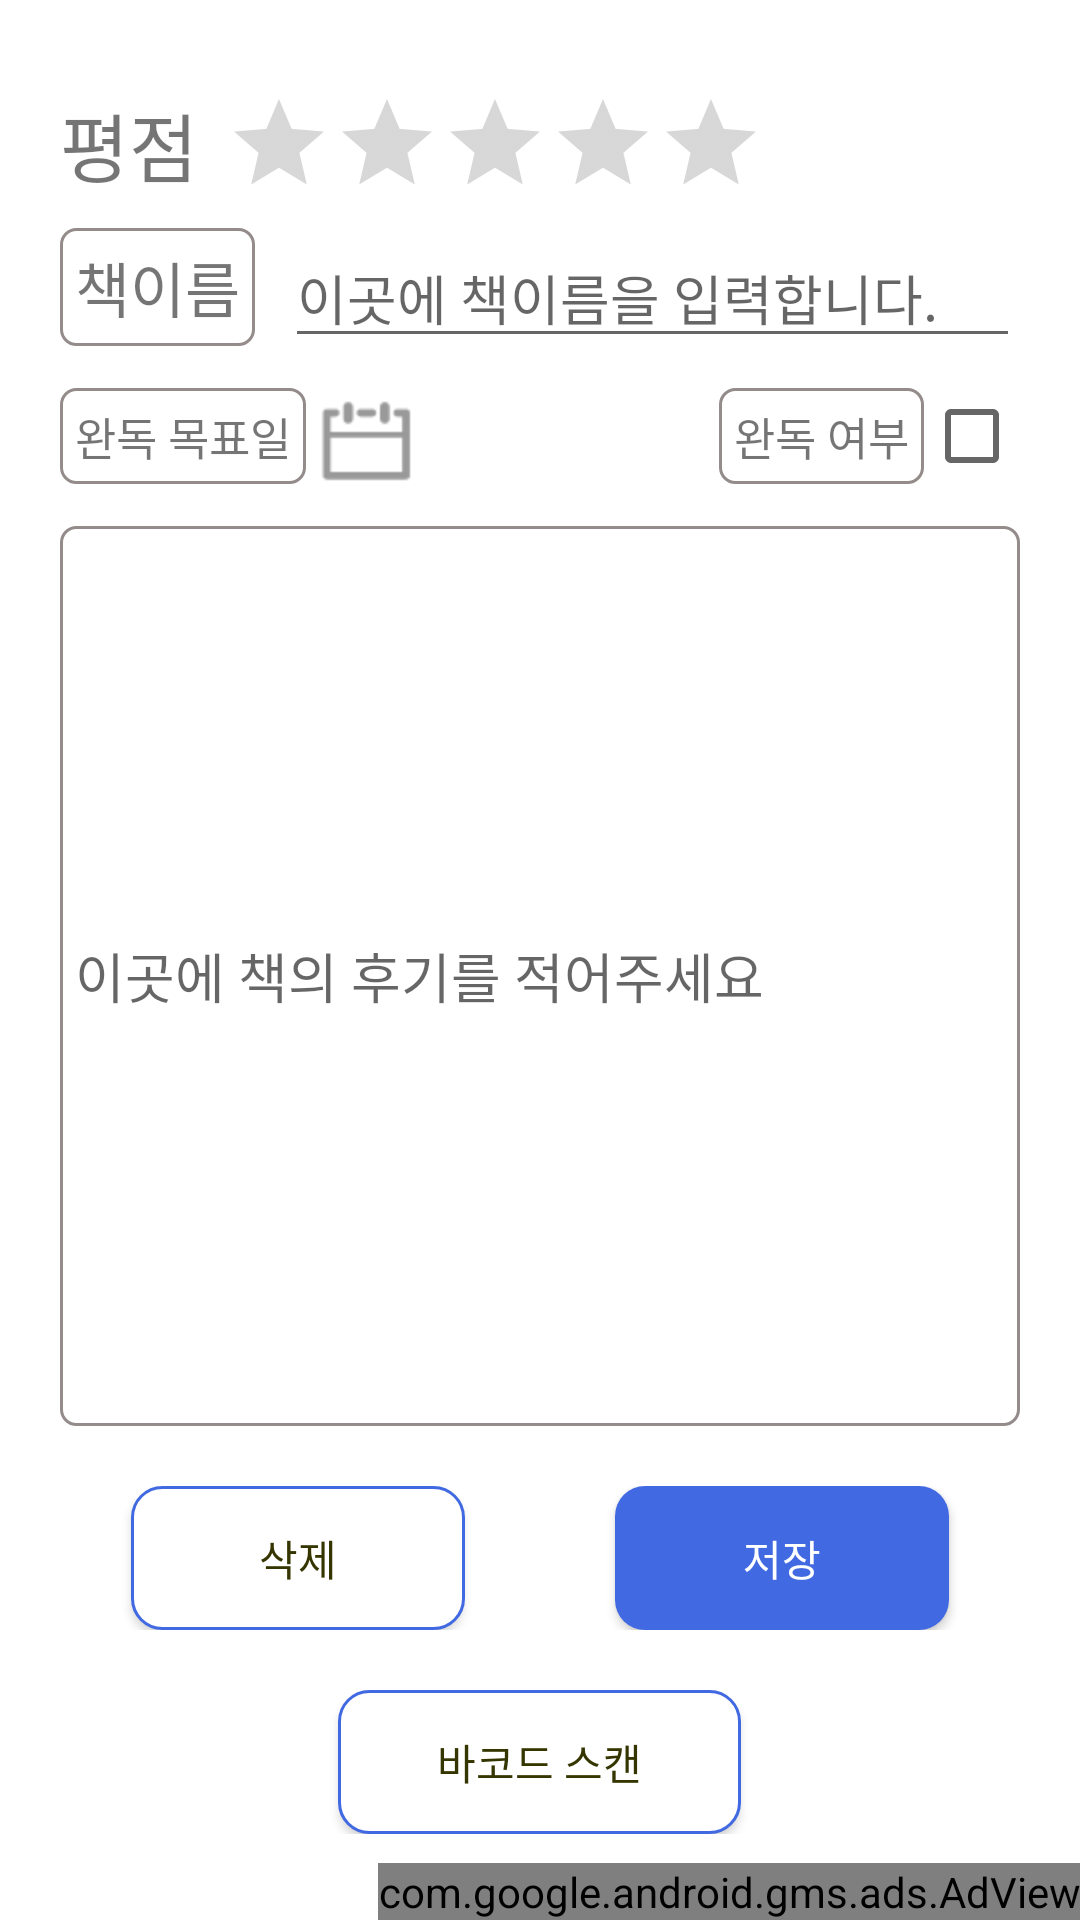

Icons on this 1080x1920 Android screen, each with the point to tap as (x=x, y=y):
date: (x=366, y=441)
